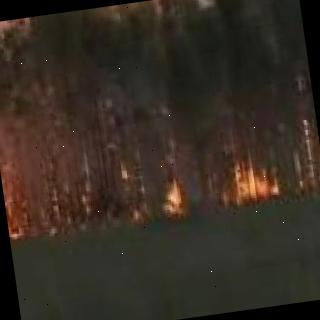fire: (224, 150, 286, 207), (155, 172, 193, 214)
